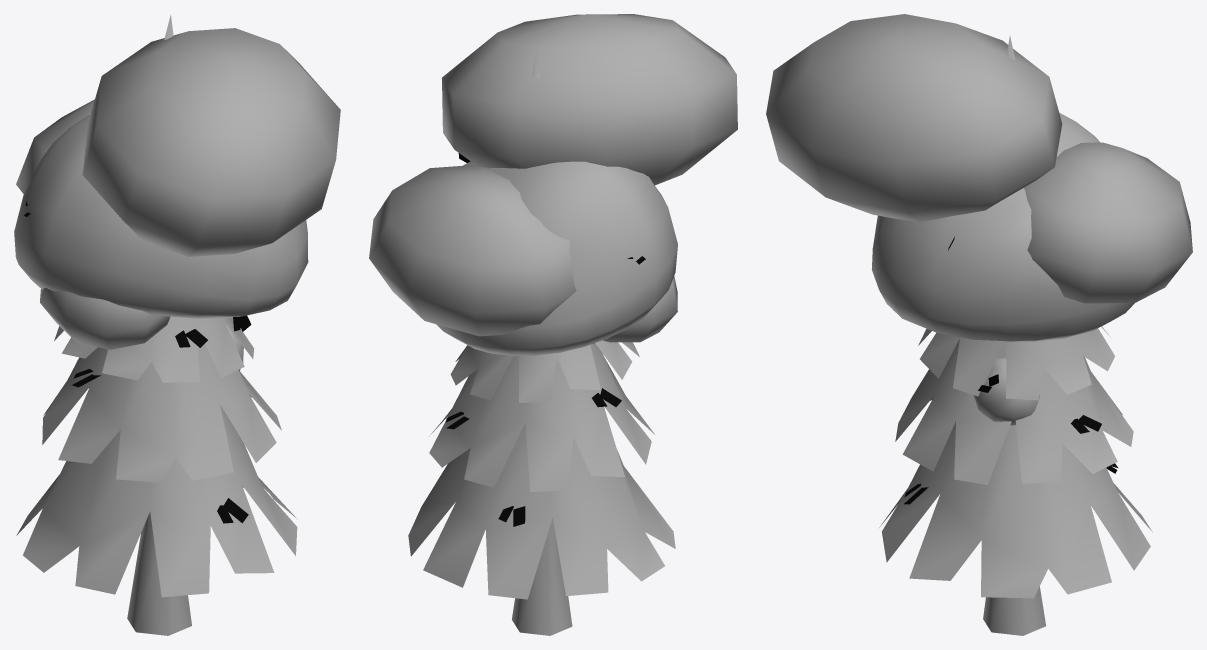
Rendered from FBX_Alive_Trees_Forest.fbx.
The picture shows the model from 3 angles, left to right: view 1: azimuth 30°, elevation 25°; view 2: azimuth 150°, elevation 25°; view 3: azimuth 270°, elevation 25°; orthographic projection. The views are drawn at different scales.
Parts seen in each view (by area): view 1: MESH_Tree_02, MESH_Tree_05, MESH_Tree_01, MESH_Leaf_02; view 2: MESH_Tree_05, MESH_Tree_02, MESH_Tree_01, MESH_Leaf_02; view 3: MESH_Tree_05, MESH_Tree_02, MESH_Tree_01, MESH_Leaf_02.
Boxes of the visible parts, x1=… form: MESH_Tree_02: x1=16, y1=14, x2=297, y2=635; MESH_Tree_05: x1=16, y1=28, x2=340, y2=349; MESH_Tree_01: x1=14, y1=115, x2=308, y2=371; MESH_Leaf_02: x1=72, y1=329, x2=248, y2=523; MESH_Tree_05: x1=369, y1=14, x2=737, y2=344; MESH_Tree_02: x1=408, y1=51, x2=675, y2=635; MESH_Tree_01: x1=436, y1=161, x2=677, y2=355; MESH_Leaf_02: x1=446, y1=388, x2=621, y2=526; MESH_Tree_05: x1=766, y1=14, x2=1192, y2=303; MESH_Tree_02: x1=879, y1=36, x2=1152, y2=635; MESH_Tree_01: x1=871, y1=113, x2=1134, y2=426; MESH_Leaf_02: x1=904, y1=415, x2=1118, y2=504.
Bounding box in the file's own units: 339 × 740 × 484.
